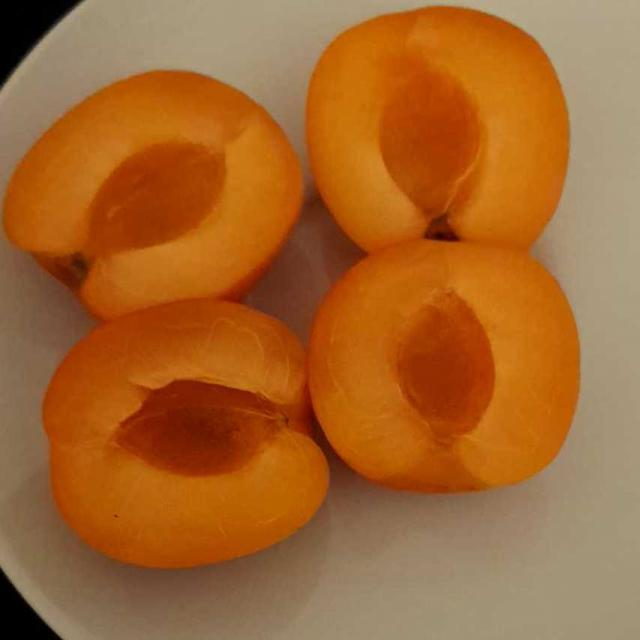apricots: (16, 36, 579, 565)
